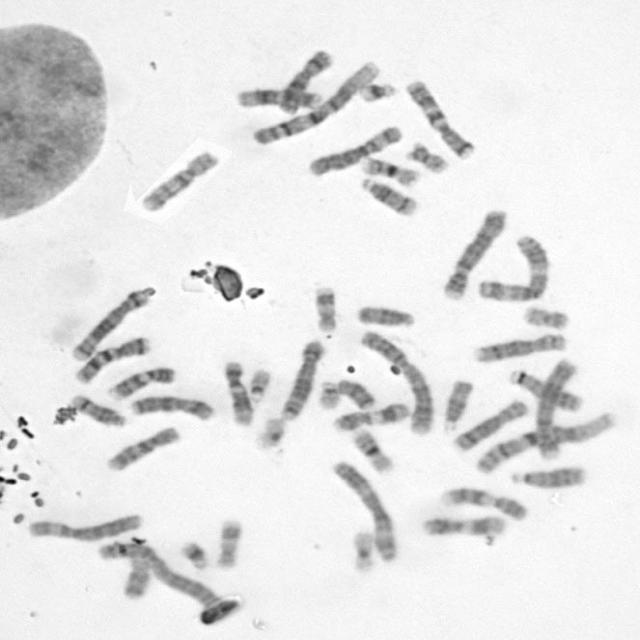A1: (247, 57, 382, 147), (472, 409, 618, 476)
A2: (94, 537, 220, 609), (356, 326, 436, 436)
A3: (328, 456, 402, 564), (473, 230, 551, 302)
B4: (438, 204, 508, 302), (532, 355, 580, 461)
B5: (68, 284, 154, 363), (276, 336, 327, 422)
C10: (134, 145, 222, 215), (102, 423, 182, 472)
C11: (329, 400, 411, 432), (419, 512, 508, 537)
C12: (232, 84, 324, 112), (220, 357, 256, 427)
C6: (303, 122, 405, 177), (23, 510, 144, 542)
C7: (400, 76, 477, 160), (70, 332, 152, 385)
C8: (448, 397, 530, 453), (469, 330, 569, 364)
C9: (437, 484, 530, 523), (106, 364, 177, 401)
D13: (505, 366, 584, 413), (508, 463, 588, 490)
D14: (357, 174, 421, 217), (66, 392, 128, 428)
D15: (438, 376, 475, 432), (352, 302, 417, 328)
E16: (348, 426, 396, 475), (359, 154, 422, 187)
E17: (212, 515, 246, 571), (310, 282, 339, 334)
E18: (118, 553, 154, 601), (333, 376, 377, 411)
F19: (348, 528, 378, 574), (251, 415, 288, 451)
F20: (405, 138, 450, 174), (520, 302, 572, 330)
G21: (176, 537, 211, 571), (354, 79, 398, 104)
G22: (244, 365, 274, 402), (314, 378, 342, 410)
X: (275, 47, 336, 114), (127, 392, 217, 422)
